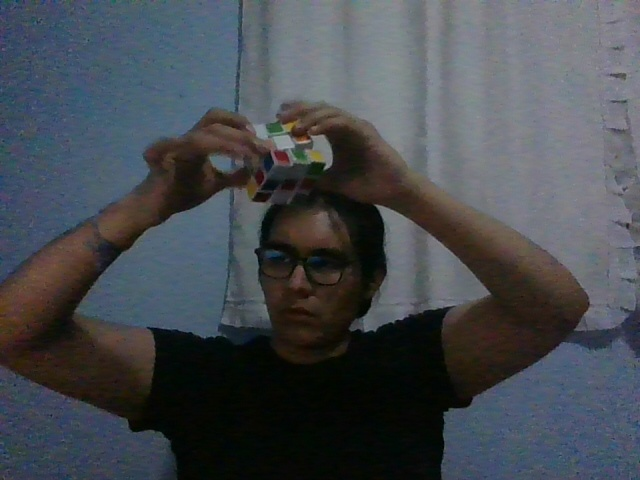rubik: (245, 121, 327, 206)
